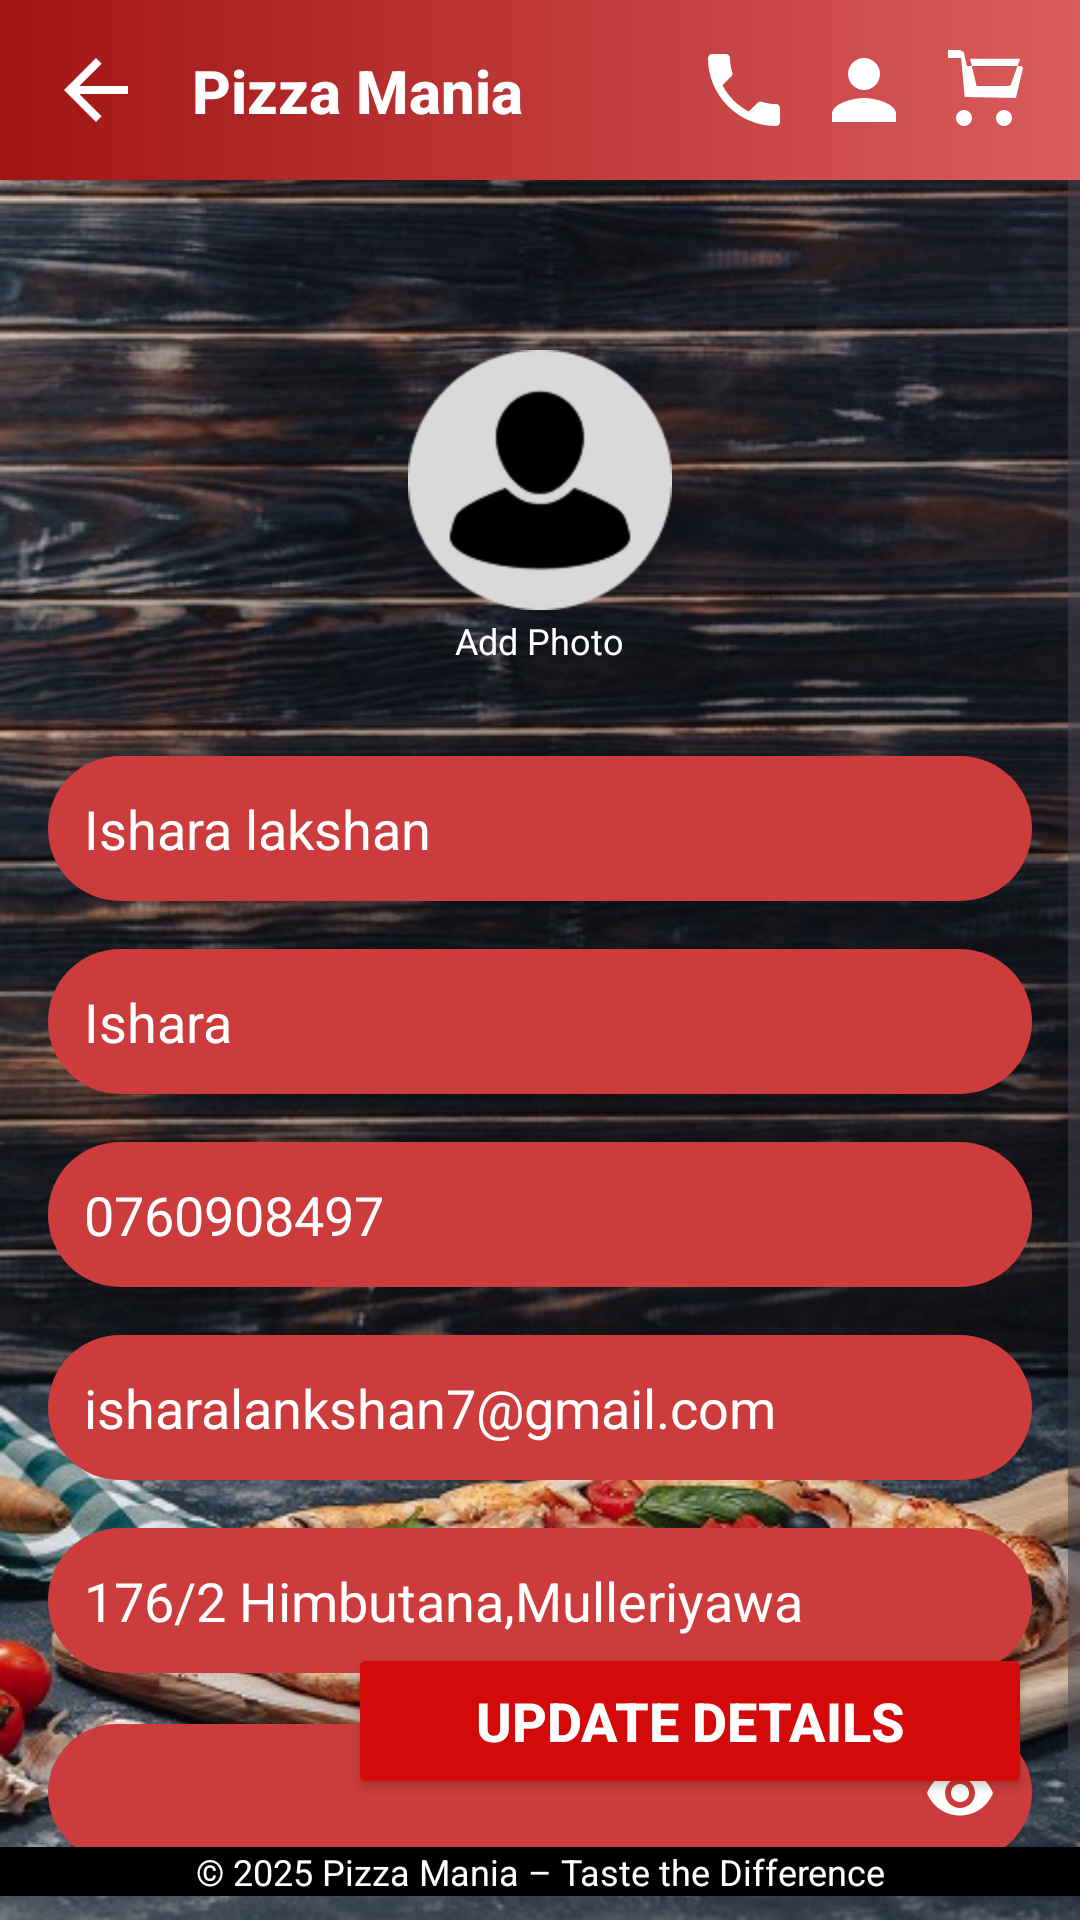

Icons on this 1080 × 1920 Android screen, each with its box as (x1, y1, x2, y2):
back arrow: (64, 58, 128, 122)
call: (708, 54, 780, 126)
cart: (948, 50, 1023, 126)
